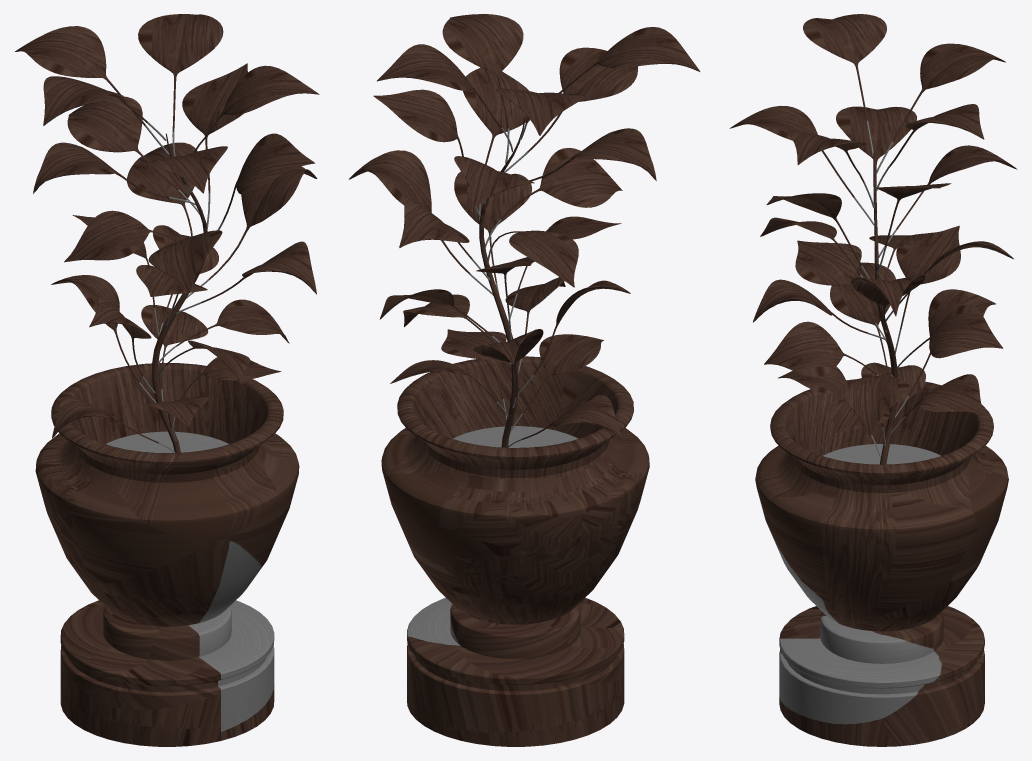
Rendered from Plant.obj.
The picture shows the model from 3 angles, left to right: view 1: azimuth 30°, elevation 25°; view 2: azimuth 150°, elevation 25°; view 3: azimuth 270°, elevation 25°; orthographic projection. The views are drawn at different scales.
Visible parts, largest first — view 1: Cylinder; view 2: Cylinder; view 3: Cylinder.
Part boxes in pixels (left/top/right/bottom): Cylinder: left=15, top=14, right=319, bottom=746; Cylinder: left=348, top=14, right=700, bottom=746; Cylinder: left=729, top=14, right=1017, bottom=746.
Bounding box in the file's own units: 0.9154 × 1.85 × 0.7677.
